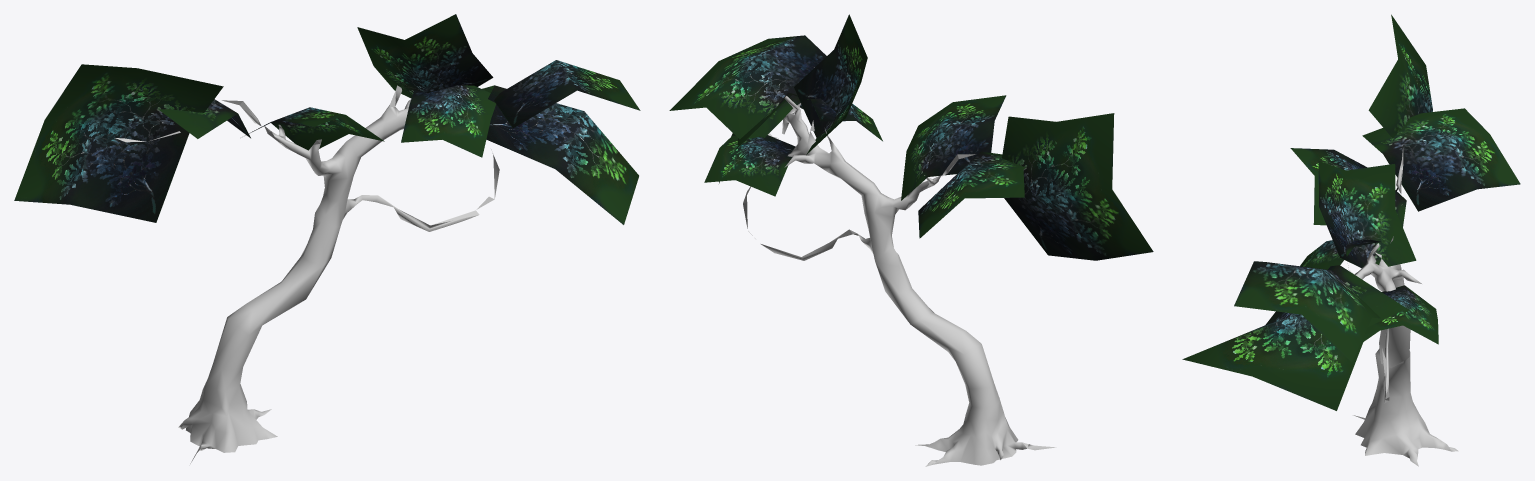
Rendered from Tree_Snaky_LOD2.fbx.
The picture shows the model from 3 angles, left to right: view 1: azimuth 30°, elevation 25°; view 2: azimuth 150°, elevation 25°; view 3: azimuth 270°, elevation 25°; orthographic projection. The views are drawn at different scales.
Visible parts, largest first — view 1: U3DMesh; view 2: U3DMesh; view 3: U3DMesh.
Boxes of the visible parts, left/top/right/bottom form: U3DMesh: left=14, top=14, right=640, bottom=463; U3DMesh: left=669, top=14, right=1153, bottom=466; U3DMesh: left=1182, top=14, right=1520, bottom=466.
Bounding box in the file's own units: 62.71 × 42.79 × 36.12.
